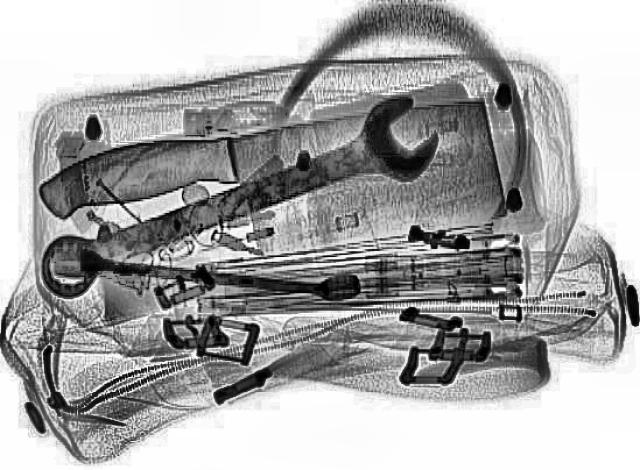Knife: (27, 99, 517, 280)
Wrench: (10, 89, 466, 313)
